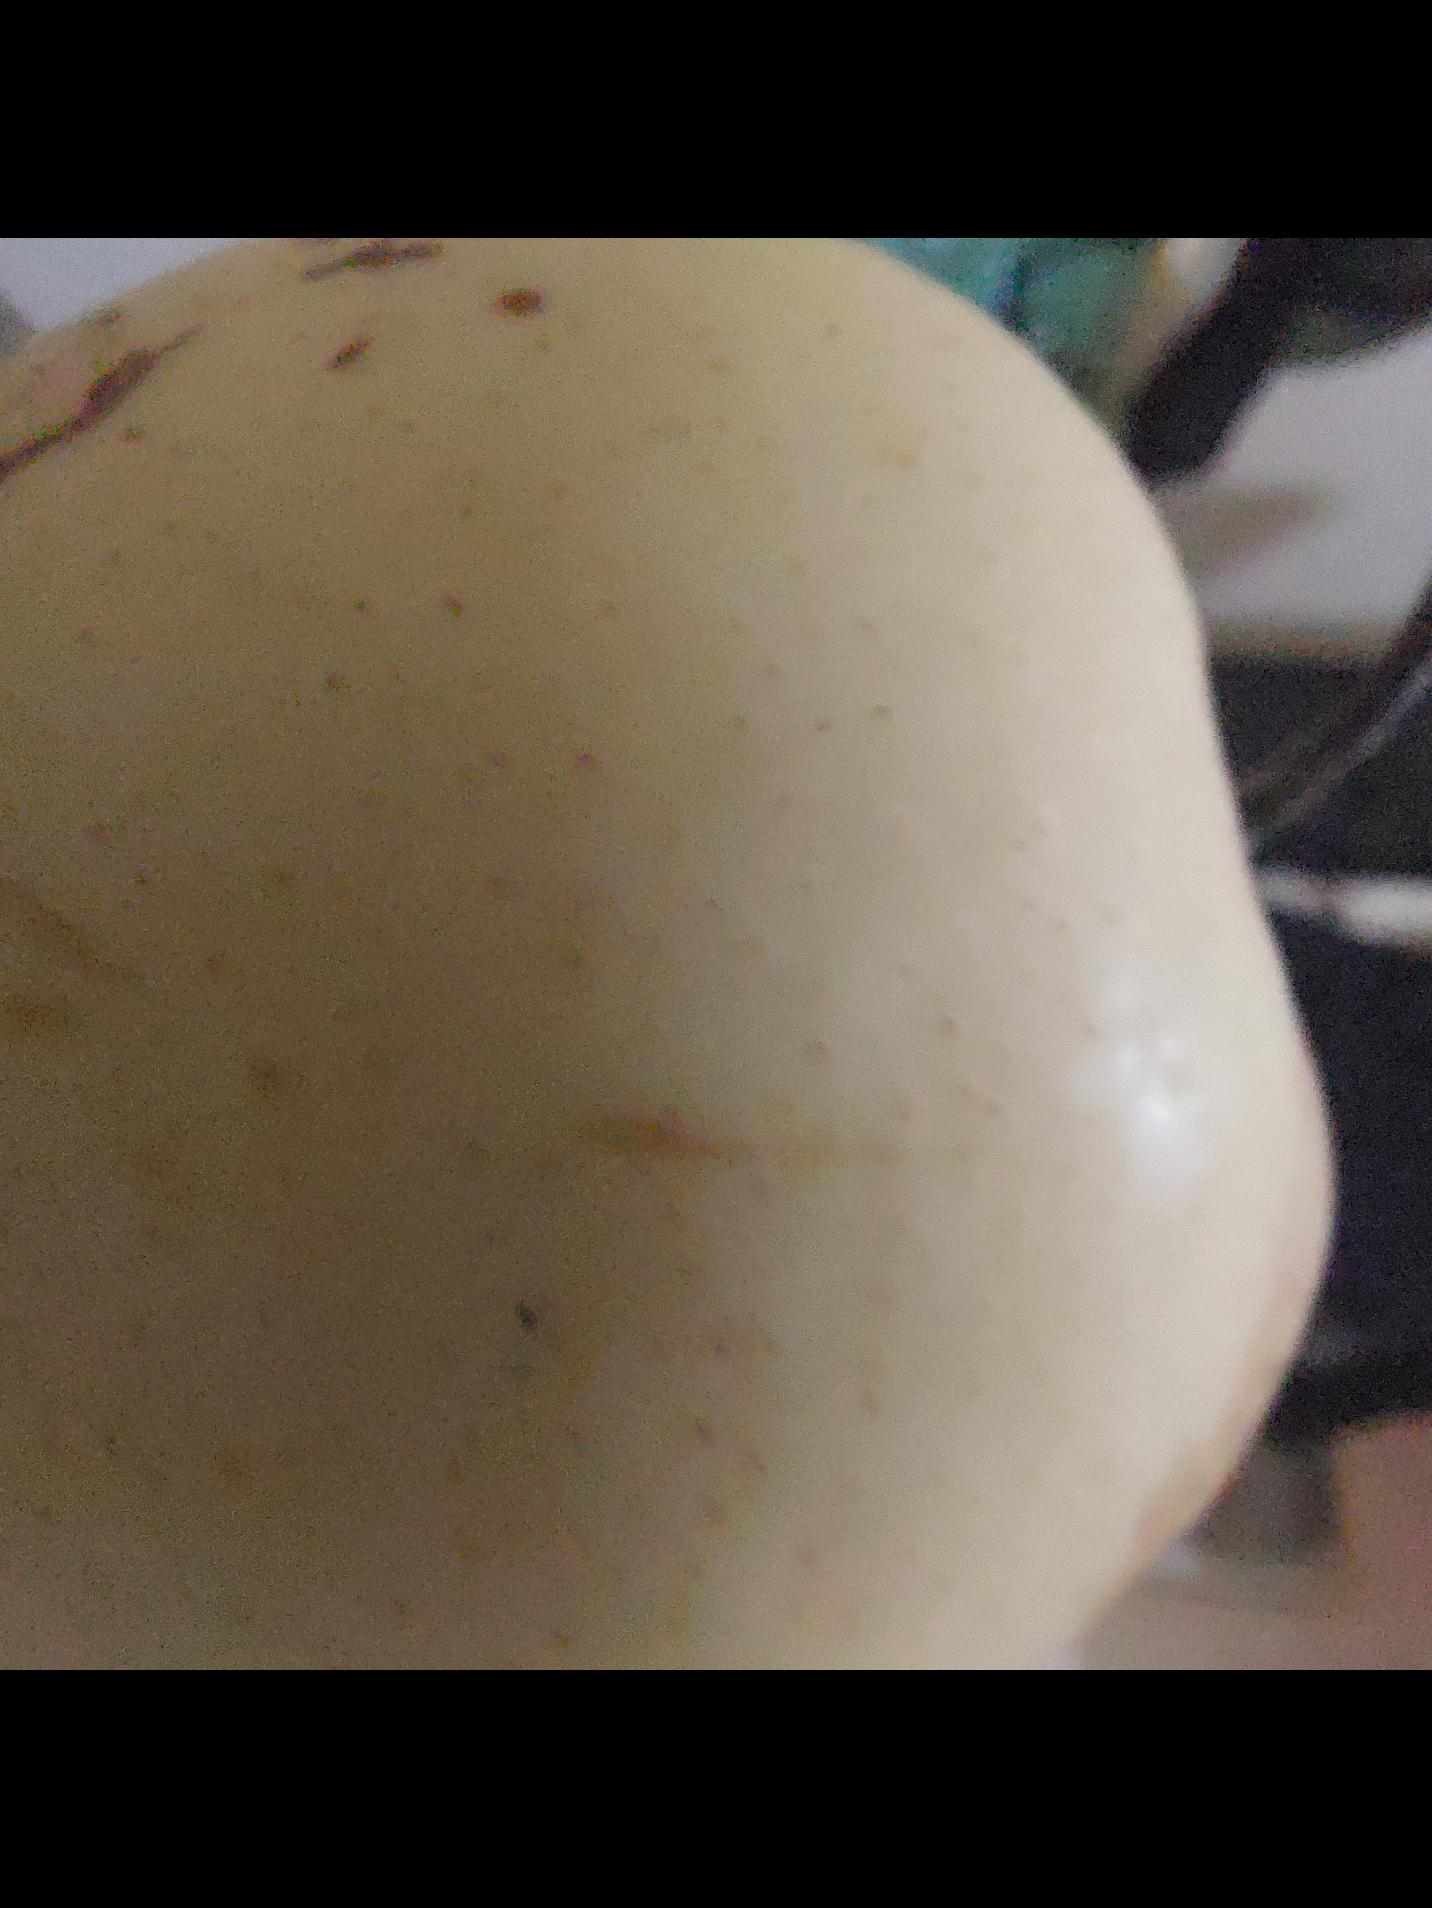Bad Pear: (0, 238, 1358, 1670)
